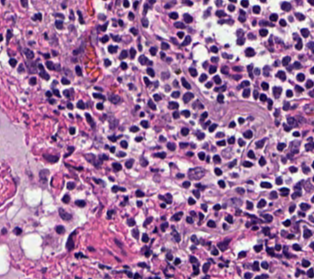nucleus: (188, 167, 204, 179), (66, 231, 75, 250), (58, 208, 71, 220), (217, 239, 229, 250), (85, 113, 94, 126), (44, 154, 58, 162), (183, 92, 193, 102), (111, 185, 125, 192), (159, 195, 171, 203), (172, 229, 180, 241), (181, 78, 190, 88), (181, 36, 190, 45), (276, 71, 285, 80), (256, 139, 265, 148), (85, 154, 94, 163), (273, 87, 281, 97), (110, 95, 120, 103), (65, 146, 73, 156), (172, 212, 182, 220), (108, 45, 117, 53), (245, 48, 254, 56), (25, 49, 33, 58), (139, 55, 147, 64), (40, 71, 49, 79), (213, 75, 221, 84), (243, 130, 252, 138), (153, 152, 165, 158), (125, 159, 133, 168), (40, 170, 48, 179), (106, 209, 114, 218), (55, 225, 64, 233), (93, 93, 104, 99), (260, 182, 271, 188), (46, 61, 54, 69), (196, 131, 204, 139), (167, 142, 175, 150), (257, 199, 265, 207), (144, 217, 152, 225), (111, 34, 120, 41), (148, 100, 155, 109), (140, 157, 147, 166), (112, 163, 121, 170), (232, 198, 241, 205), (263, 214, 272, 221), (129, 48, 135, 58), (93, 178, 103, 184), (75, 200, 85, 206), (132, 228, 138, 238), (259, 29, 267, 36), (161, 42, 169, 49), (120, 50, 127, 58), (9, 58, 16, 66), (147, 68, 154, 76), (189, 68, 196, 76), (161, 72, 169, 79), (199, 73, 206, 81), (61, 77, 69, 84), (242, 89, 249, 97), (77, 100, 84, 108), (182, 110, 190, 117), (208, 124, 216, 131), (277, 143, 285, 150), (247, 150, 254, 158), (228, 160, 236, 167), (66, 182, 74, 189), (192, 190, 199, 198), (62, 194, 69, 202), (207, 220, 215, 227), (13, 227, 21, 234), (191, 235, 198, 243), (266, 248, 274, 255), (75, 66, 81, 75), (169, 102, 178, 108), (195, 183, 204, 189), (142, 233, 148, 242), (252, 261, 258, 270), (215, 86, 225, 91), (267, 99, 272, 109), (236, 29, 243, 36), (101, 35, 108, 42), (237, 37, 244, 44), (209, 66, 216, 73), (29, 77, 36, 84), (261, 82, 268, 89), (259, 94, 266, 101), (172, 111, 179, 118), (181, 128, 188, 135), (120, 141, 127, 148), (198, 152, 205, 159), (213, 155, 220, 162), (214, 168, 221, 175), (270, 191, 277, 198), (188, 197, 195, 204), (225, 215, 232, 222), (127, 218, 134, 225), (262, 227, 269, 234), (114, 239, 121, 246), (150, 47, 156, 55), (241, 80, 249, 86), (217, 94, 223, 102), (201, 112, 207, 120), (130, 126, 138, 132), (238, 138, 244, 146), (179, 142, 187, 148), (259, 157, 265, 165), (136, 190, 144, 196), (246, 201, 252, 209), (161, 222, 167, 230), (233, 66, 242, 71), (253, 90, 258, 99), (243, 161, 252, 166), (7, 30, 11, 41), (210, 46, 217, 52), (120, 62, 126, 69), (221, 66, 227, 73), (53, 89, 59, 96), (63, 90, 69, 97), (172, 91, 179, 97), (153, 94, 160, 100), (141, 121, 148, 127), (203, 121, 210, 127), (69, 127, 75, 134), (218, 180, 224, 187), (182, 181, 189, 187), (213, 204, 220, 210), (254, 245, 261, 251), (211, 249, 218, 255), (238, 251, 245, 257), (189, 256, 196, 262), (261, 261, 267, 268), (18, 64, 23, 72), (144, 77, 149, 85), (109, 136, 117, 141), (217, 140, 225, 145), (236, 188, 244, 193), (177, 31, 183, 37), (171, 38, 177, 44), (104, 59, 110, 65), (264, 66, 268, 75), (96, 103, 102, 109), (228, 137, 234, 143), (165, 193, 171, 199), (186, 217, 192, 223), (75, 253, 84, 257), (166, 253, 172, 259), (174, 258, 180, 264), (248, 33, 255, 38), (160, 51, 165, 58), (211, 57, 218, 62), (247, 64, 252, 71), (205, 82, 212, 87), (216, 132, 223, 137), (118, 151, 125, 156), (276, 177, 281, 184), (201, 204, 206, 211), (222, 53, 230, 57), (43, 53, 49, 58), (38, 64, 43, 70), (254, 68, 259, 74), (46, 91, 51, 97), (49, 98, 55, 103), (67, 103, 72, 109), (238, 118, 244, 123), (135, 136, 141, 141), (159, 136, 165, 141), (235, 209, 241, 214), (275, 244, 280, 250), (145, 250, 150, 256), (176, 174, 183, 178), (199, 213, 203, 220), (55, 64, 60, 69), (229, 122, 234, 127), (136, 201, 141, 206), (1, 228, 6, 233), (203, 61, 207, 67), (249, 72, 253, 78), (234, 75, 240, 79), (173, 80, 177, 86), (165, 85, 169, 91), (274, 110, 278, 116), (186, 152, 192, 156), (101, 155, 107, 159), (95, 87, 102, 90), (73, 50, 78, 54), (274, 61, 278, 66), (110, 147, 114, 152), (160, 203, 165, 207), (190, 211, 195, 215), (223, 224, 227, 229), (252, 226, 257, 230), (138, 44, 141, 50), (140, 112, 144, 116), (128, 84, 133, 87), (232, 174, 237, 177), (88, 247, 93, 250), (167, 58, 171, 61), (191, 144, 195, 147), (206, 157, 209, 161), (161, 216, 165, 219), (191, 246, 195, 249)
